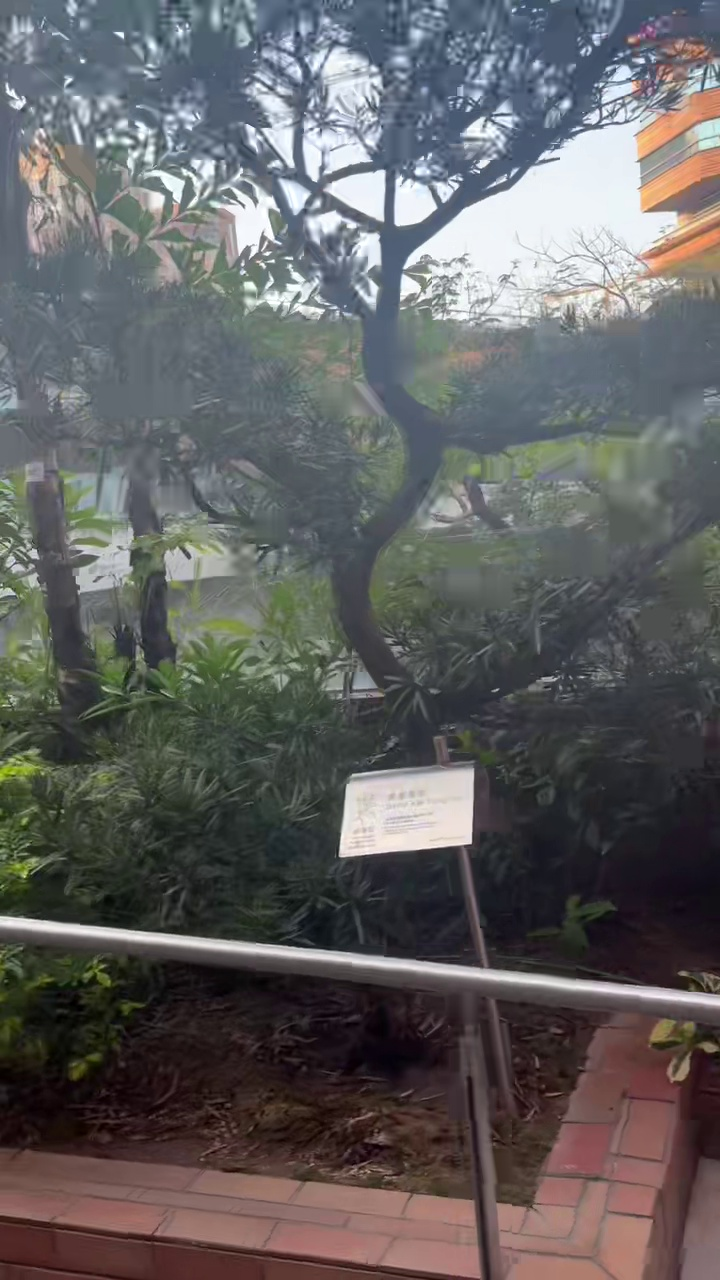Podocarpus macrophyllus: (138, 0, 711, 694)
